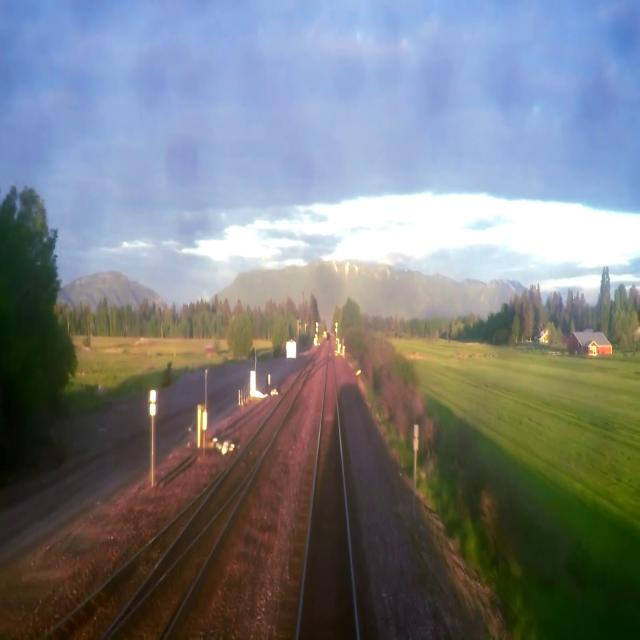rail-track: (144, 380, 301, 589), (51, 500, 200, 639), (113, 491, 241, 639), (300, 360, 355, 639)
